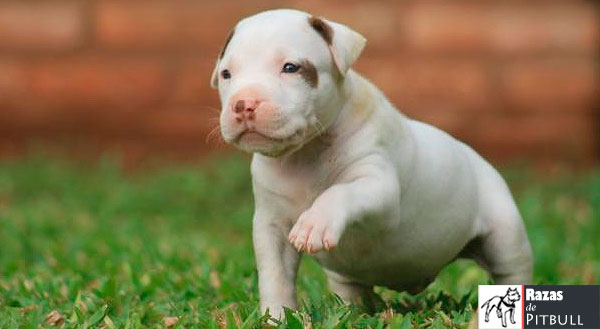Perro Pitbull: (194, 2, 507, 300)
